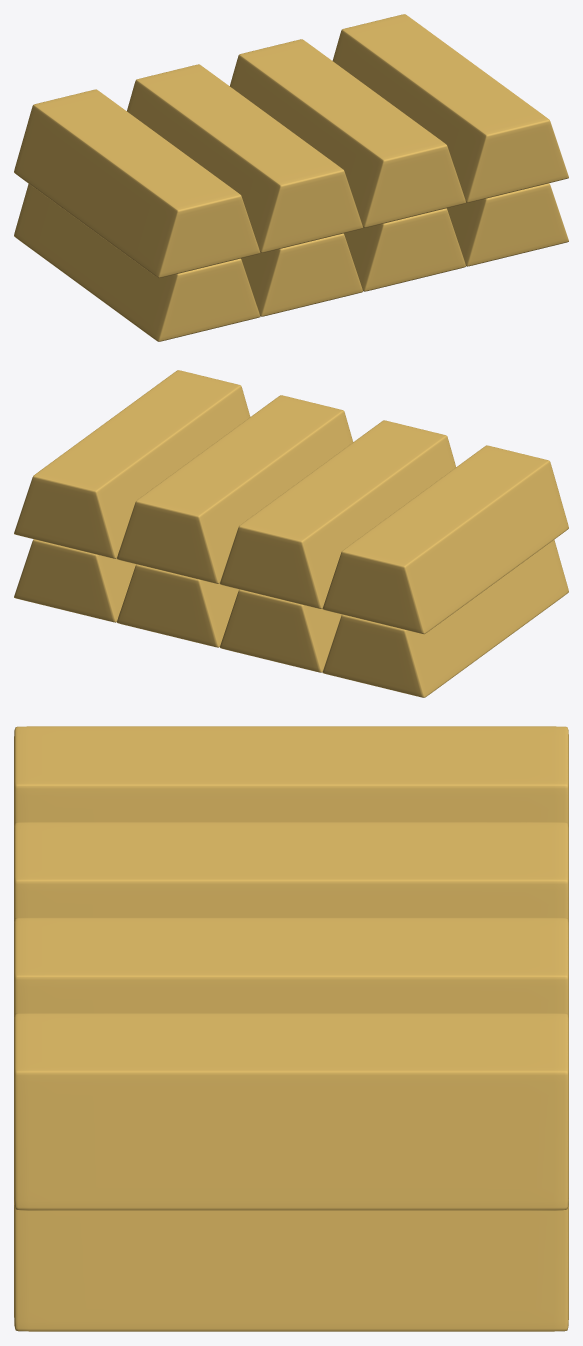
Rendered from gold_bar.fbx.
The picture shows the model from 3 angles, top to bottom: view 1: azimuth 30°, elevation 25°; view 2: azimuth 150°, elevation 25°; view 3: azimuth 270°, elevation 25°; orthographic projection. The views are drawn at different scales.
Parts seen in each view (by area): view 1: gold_bars; view 2: gold_bars; view 3: gold_bars.
Part boxes in pixels (bbox=[...]): gold_bars: bbox=[14, 14, 568, 341]; gold_bars: bbox=[14, 370, 568, 697]; gold_bars: bbox=[14, 726, 568, 1331].
Size of the model in its own units: 91.67 by 27.11 by 56.27.
